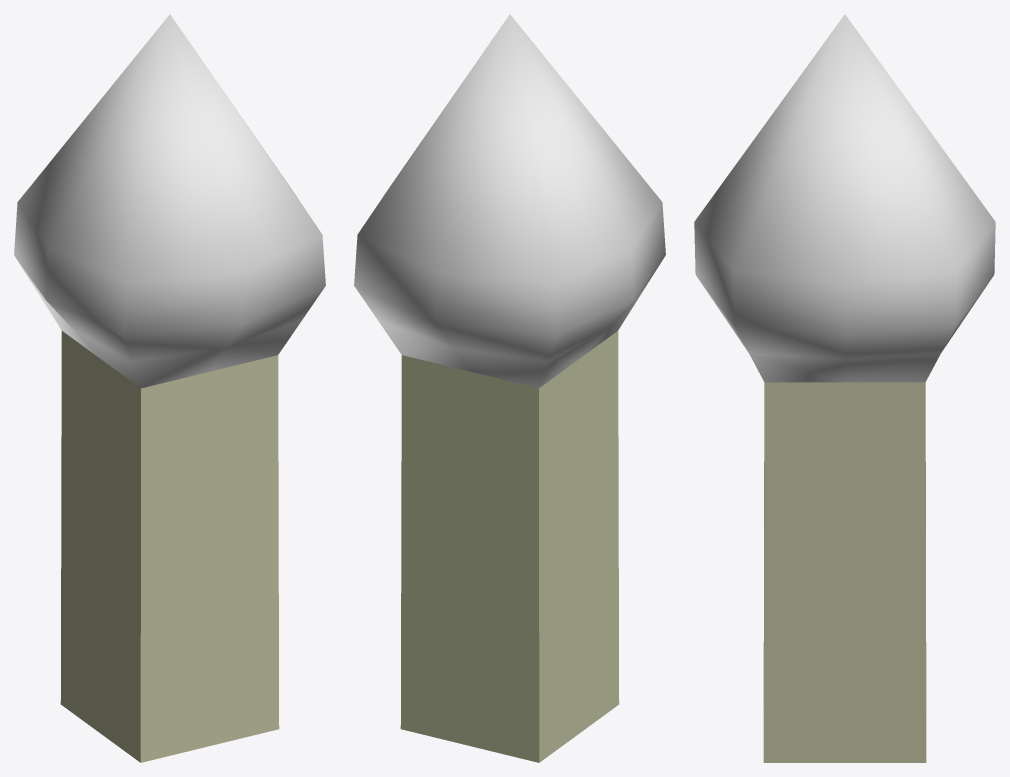
3 views of the same model, side by side, from view 1: azimuth 30°, elevation 25°; view 2: azimuth 150°, elevation 25°; view 3: azimuth 270°, elevation 25° (orthographic).
Visible parts, largest first — view 1: Cube; view 2: Cube; view 3: Cube.
Part boxes in pixels (<box>): Cube: <box>14,14,325,762</box>; Cube: <box>354,14,665,762</box>; Cube: <box>694,14,995,762</box>.
Size of the model in its own units: 26.84 by 72.78 by 27.81.
